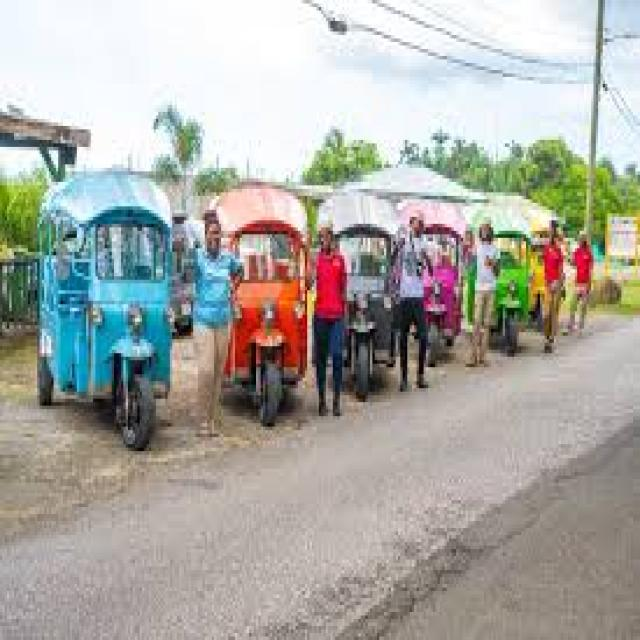tuktuk: (28, 118, 200, 480), (187, 122, 328, 461), (316, 135, 440, 435)
